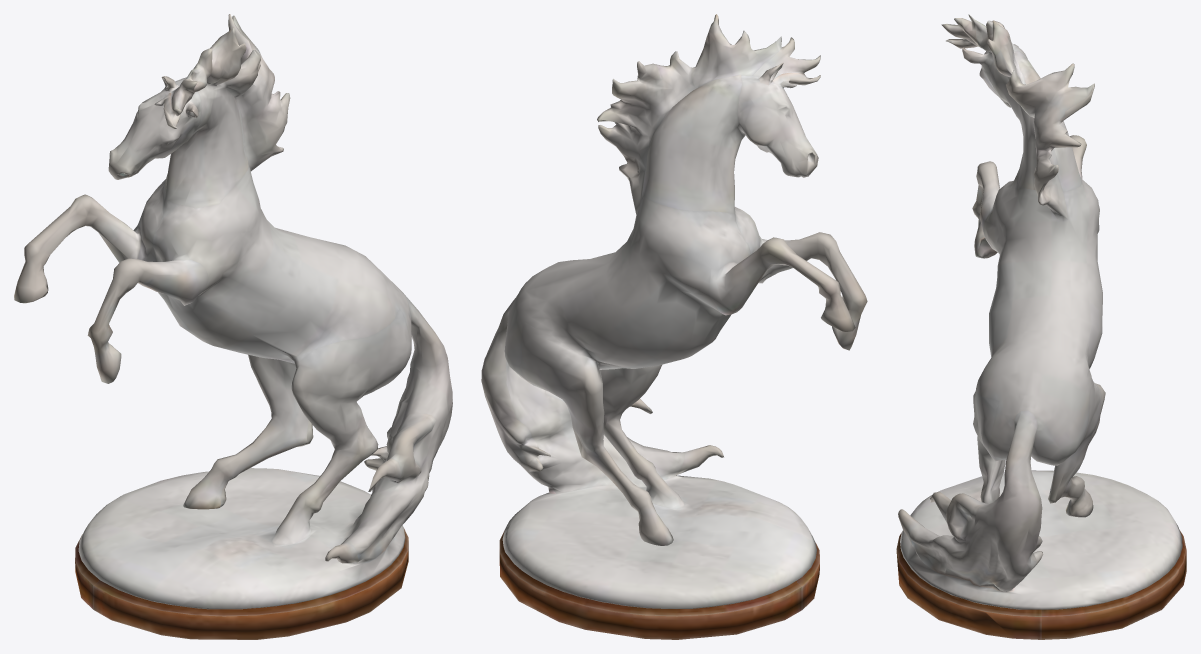
The model's file is th_pferdestatue.glb.
3 renders of one model, left to right at view 1: azimuth 30°, elevation 25°; view 2: azimuth 150°, elevation 25°; view 3: azimuth 270°, elevation 25°, orthographic. The views are drawn at different scales.
Parts seen in each view (by area): view 1: horse_statue_01; view 2: horse_statue_01; view 3: horse_statue_01.
Part boxes in pixels (x1,y1,x2,y2): horse_statue_01: [14, 14, 452, 639]; horse_statue_01: [481, 14, 867, 639]; horse_statue_01: [896, 14, 1186, 639].
Bounding box in the file's own units: 0.1638 × 0.22 × 0.1078.
2 materials, 2 textured.
